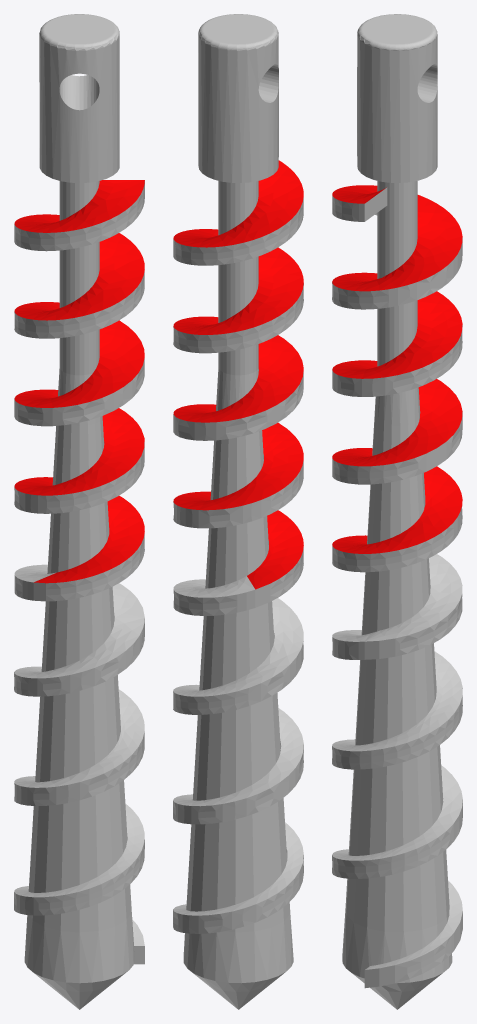
Rendered from fuso_extrusor_V3_2_2mm__step_12.obj.
3 views of the same model, side by side, from view 1: azimuth 90°, elevation 25°; view 2: azimuth 150°, elevation 25°; view 3: azimuth 330°, elevation 25° (orthographic).
Parts seen in each view (by area): view 1: Object1; view 2: Object1; view 3: Object1.
Boxes of the visible parts, x1,y1,x2,y2 form: Object1: [14, 14, 144, 1009]; Object1: [173, 14, 303, 1009]; Object1: [332, 14, 462, 1009].
Bounding box in the file's own units: 13 × 108 × 13.
